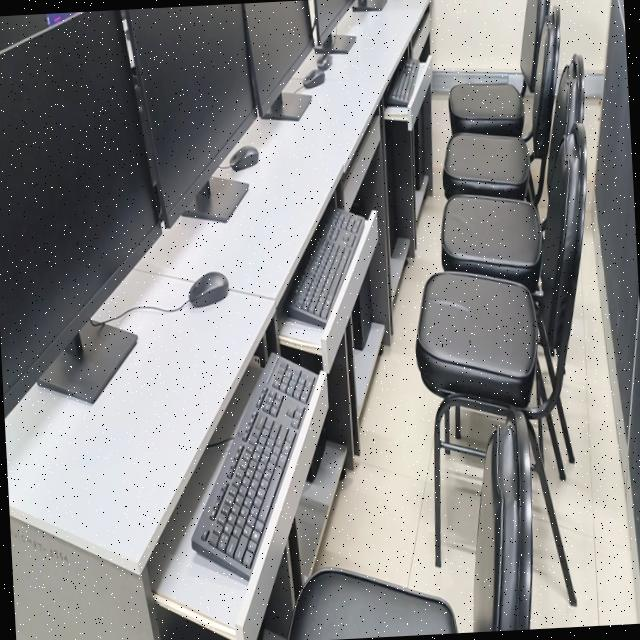Chair: (416, 122, 587, 567), (441, 55, 585, 293), (443, 7, 560, 206), (448, 0, 550, 136), (472, 415, 533, 632), (288, 568, 458, 640)
Cpu: (352, 269, 373, 349), (307, 423, 327, 482), (413, 118, 424, 190)
Keyboard: (191, 355, 317, 579), (289, 208, 365, 327), (387, 58, 419, 106)
Monitor: (0, 10, 161, 419), (123, 4, 258, 228), (244, 0, 313, 120), (314, 0, 356, 54), (0, 14, 47, 50), (45, 12, 79, 26), (352, 0, 385, 11)
Mouse: (189, 272, 229, 306), (230, 145, 259, 171), (303, 68, 325, 88), (316, 53, 332, 71)
